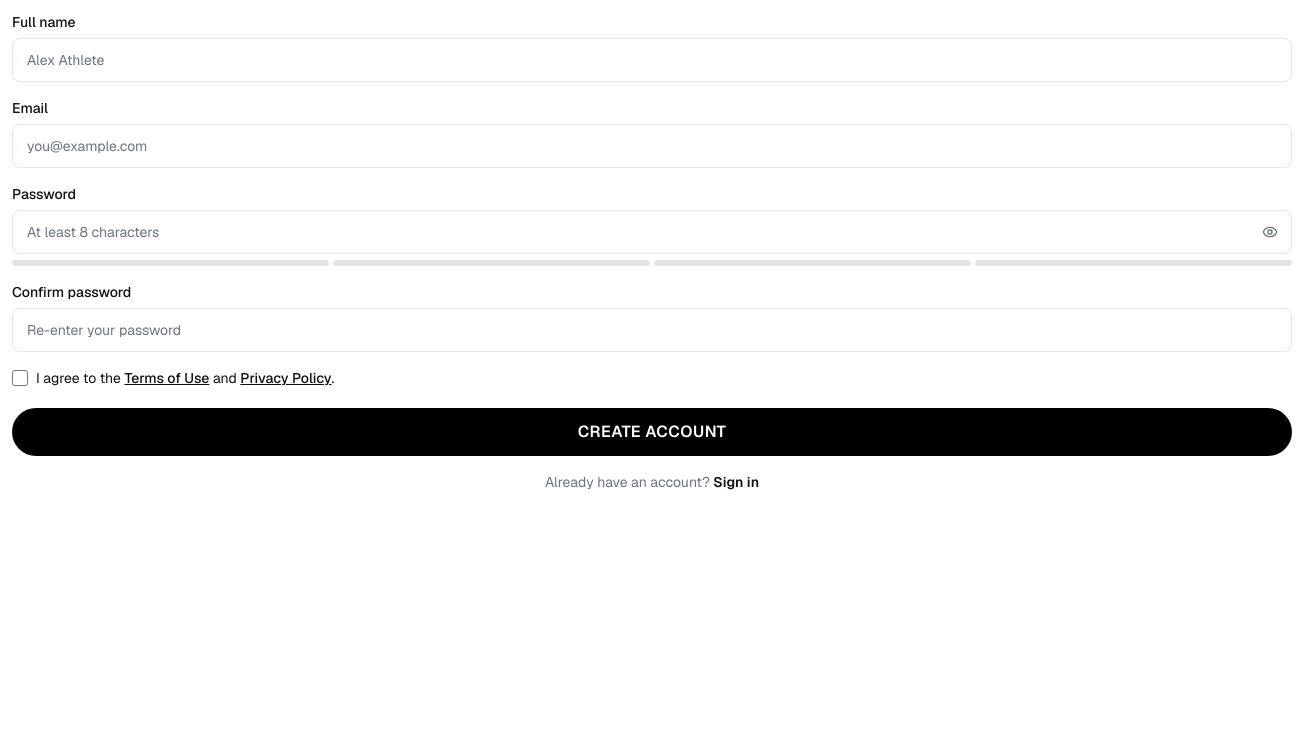
Scenario: SignUpForm › requires accepting the terms
In the field labelled "Full name": point(652, 60) left=12, top=38, right=1292, bottom=82, type "Alex"
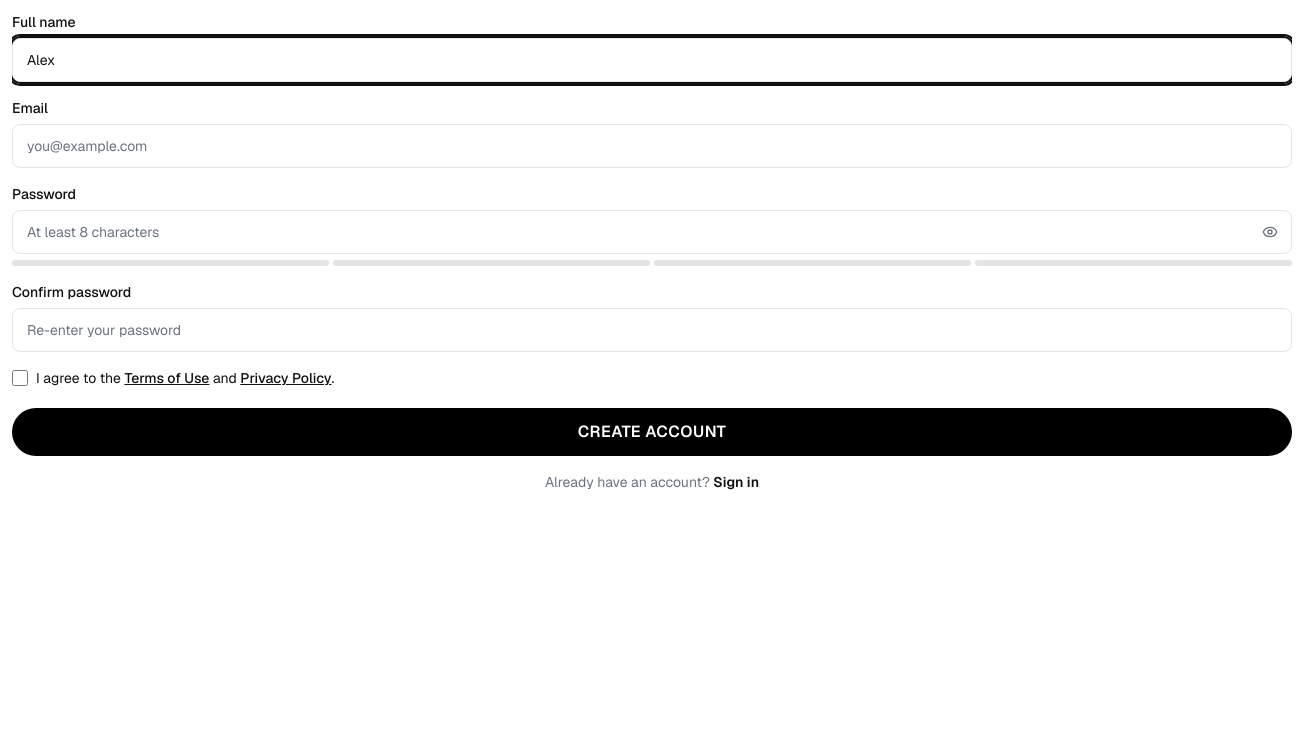
In the field labelled "Email": point(652, 146) left=12, top=124, right=1292, bottom=168, type "alex@ua.com"
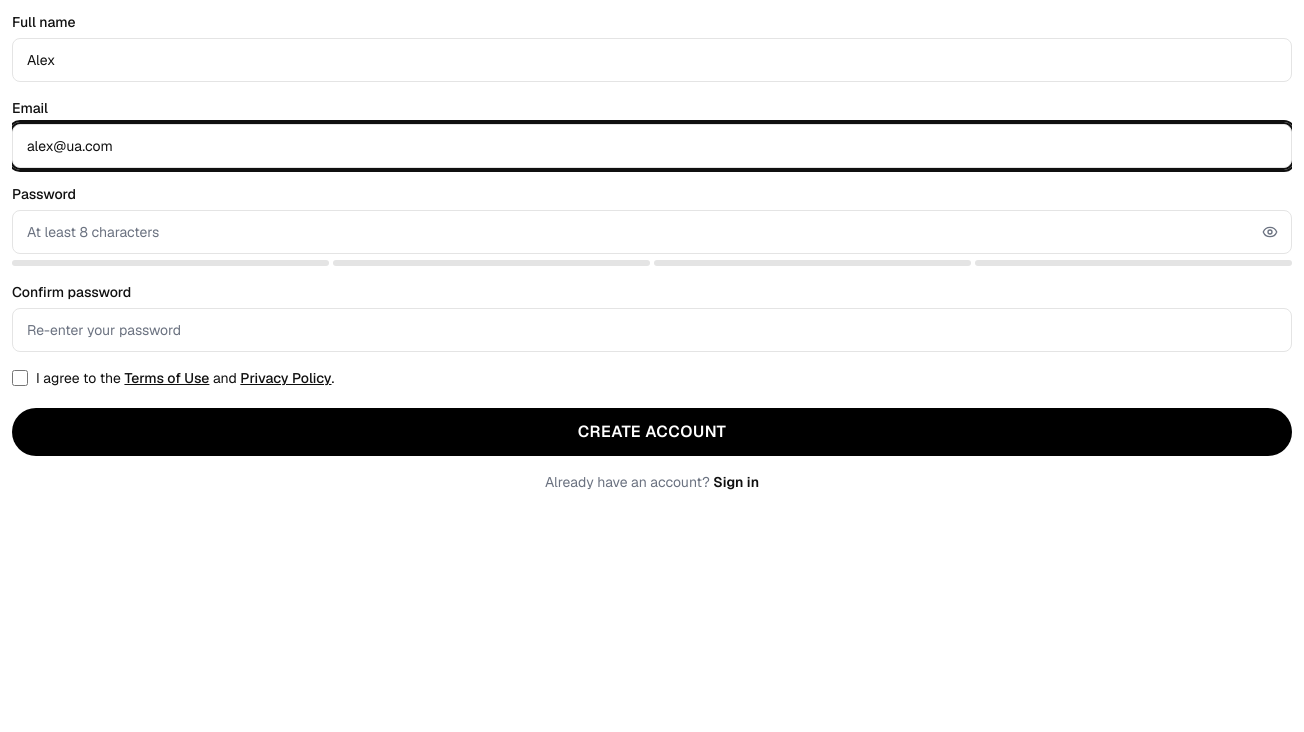
In the password field labelled "Password": point(652, 232) left=12, top=210, right=1292, bottom=254, type "Str0ng!Pass"
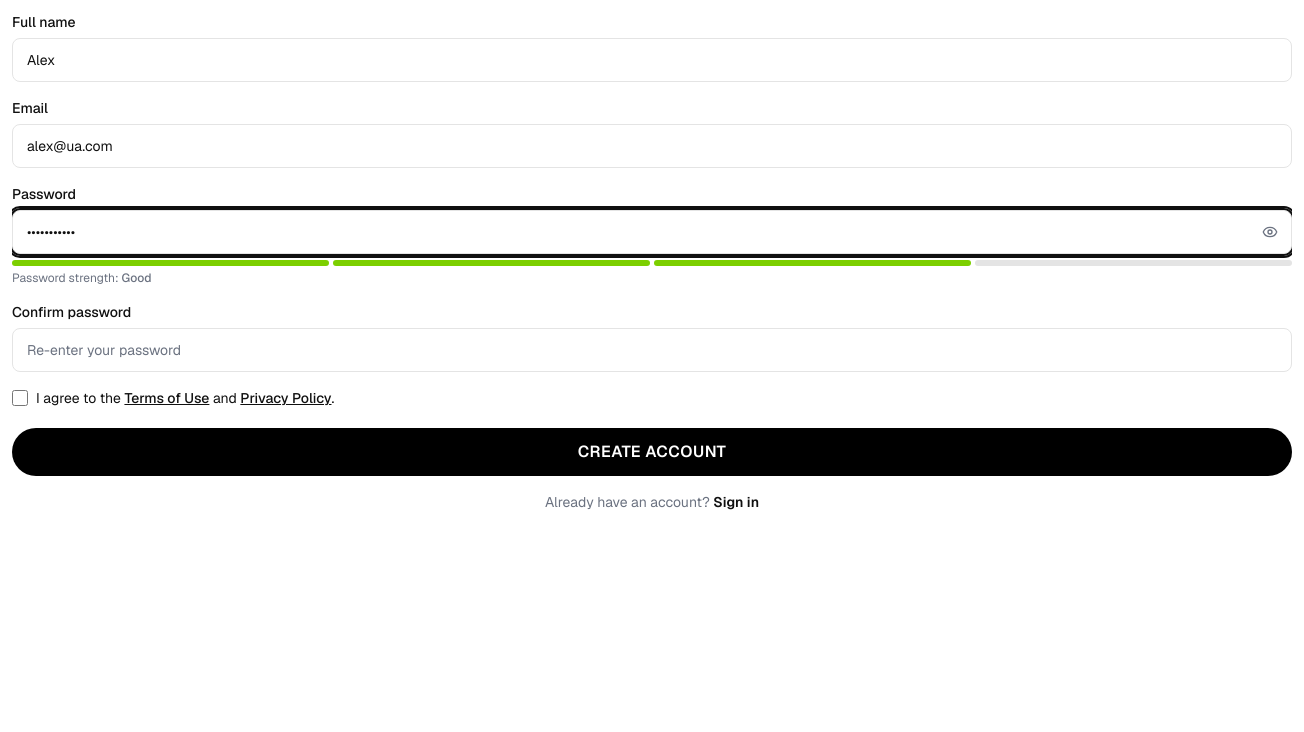
In the password field labelled "Confirm password": point(652, 350) left=12, top=328, right=1292, bottom=372, type "Str0ng!Pass"
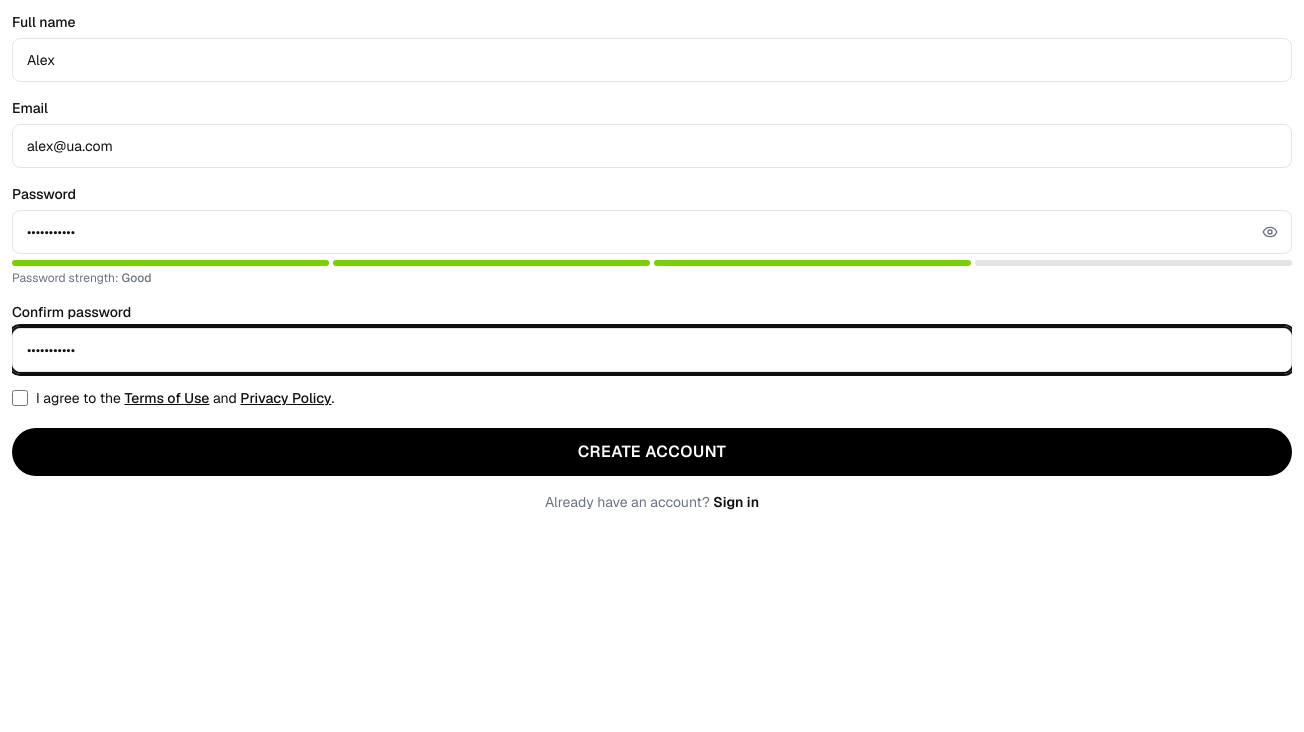
Click the button "Create account": point(652, 452) left=12, top=428, right=1292, bottom=476
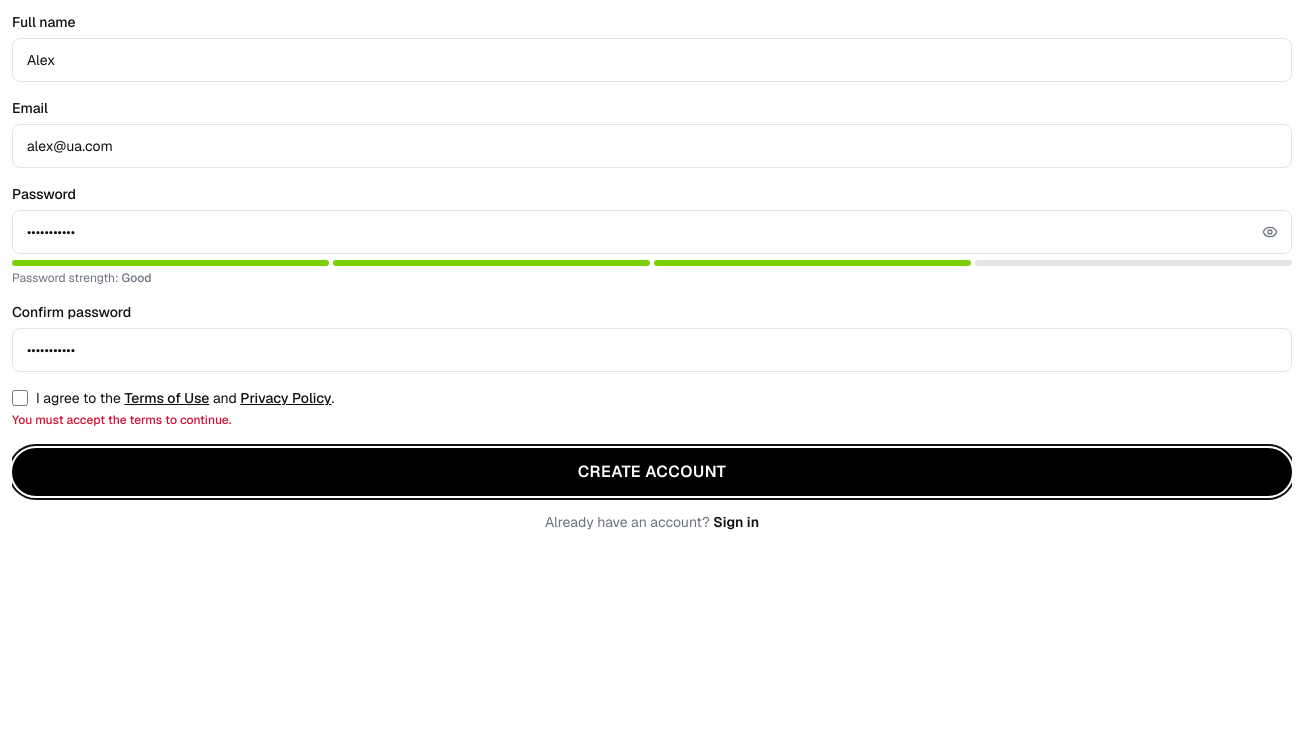
Now the text "You must accept the terms to continue." is shown, box left=12, top=412, right=231, bottom=428
